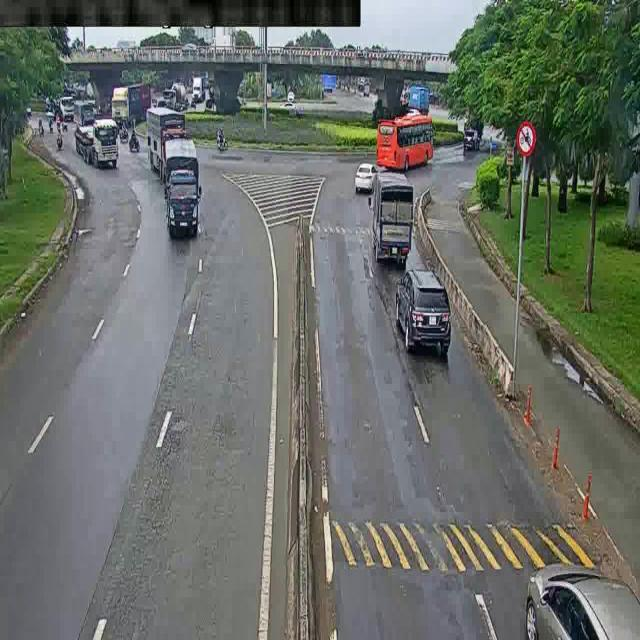bus: (368, 114, 457, 169)
car: (486, 548, 640, 640), (401, 267, 446, 349), (343, 158, 378, 188)
motorbike: (53, 129, 67, 156), (213, 130, 226, 150), (36, 118, 46, 140)
truck: (366, 178, 420, 264), (162, 142, 208, 242), (141, 108, 188, 185), (72, 120, 116, 175), (105, 84, 152, 121), (460, 112, 489, 161), (46, 87, 81, 120), (161, 76, 184, 110), (188, 74, 208, 107)
